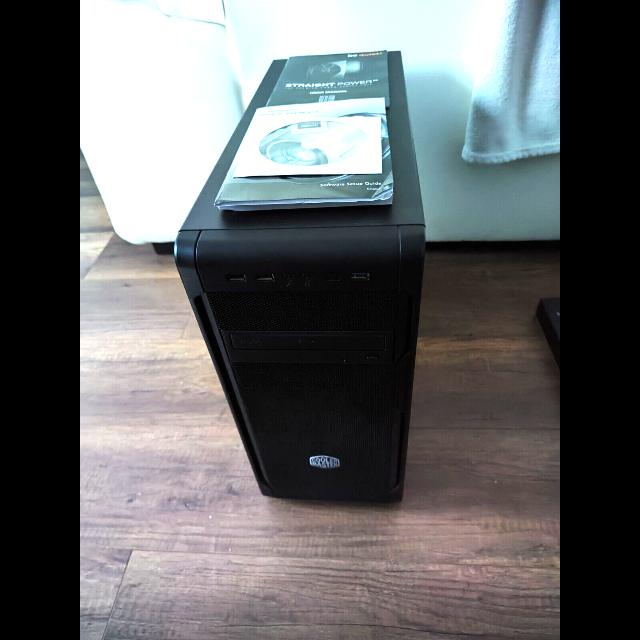Desktop-PC: (168, 48, 436, 516)
